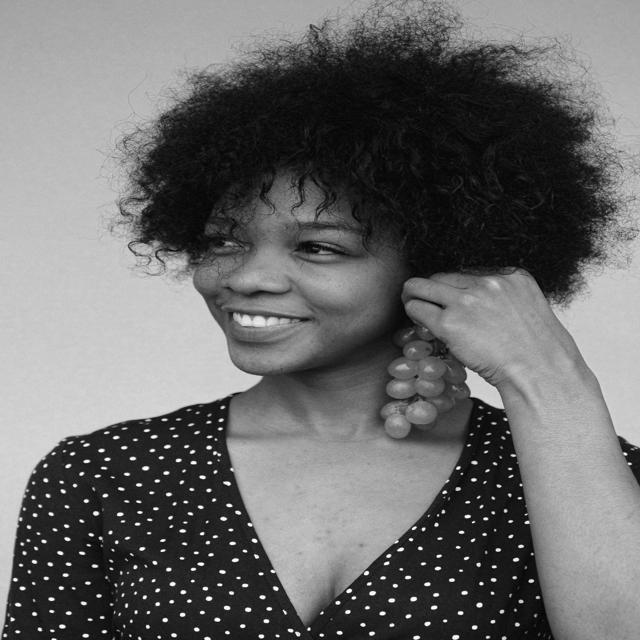Happiness: (190, 175, 392, 378)
